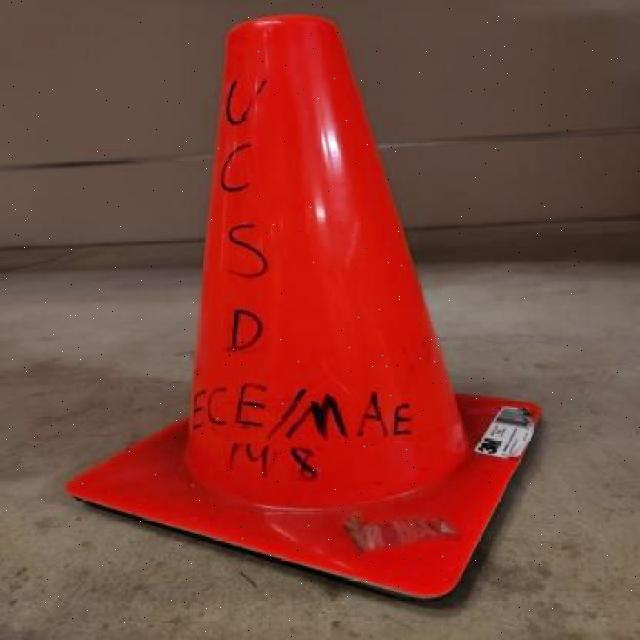traffic cone: (47, 10, 553, 612)
